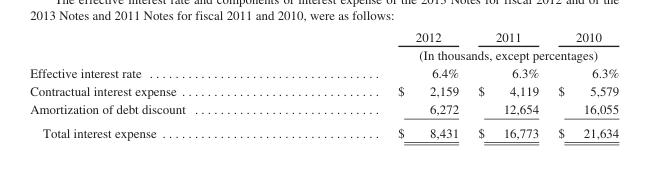table: (29, 29, 618, 139)
table column: (29, 29, 291, 139), (291, 29, 467, 139), (467, 29, 547, 139), (547, 29, 618, 139)
table column header: (29, 29, 618, 63)
table row: (29, 99, 618, 120), (29, 120, 618, 139), (29, 45, 618, 63), (29, 63, 618, 81), (29, 81, 618, 99), (29, 29, 618, 45)
table spanning cell: (291, 45, 618, 63)
